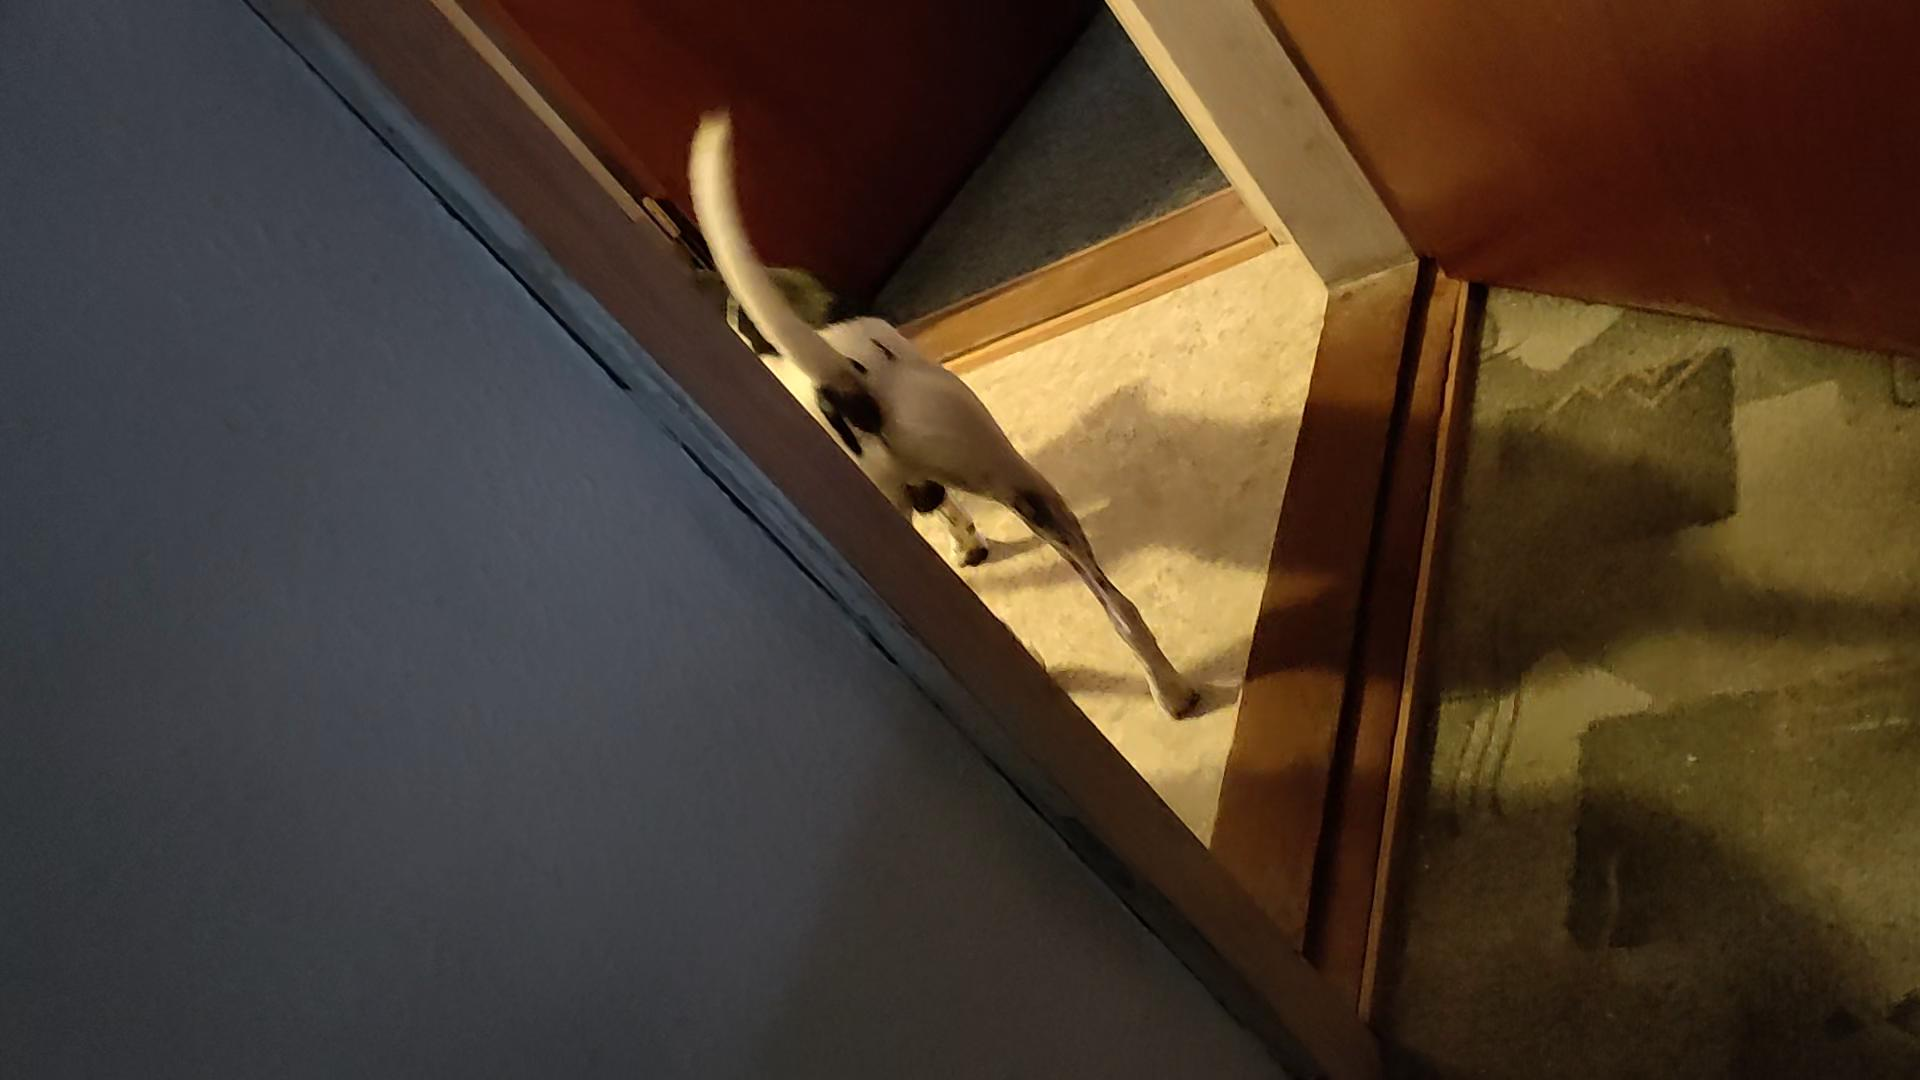Dog: (638, 103, 1205, 717)
